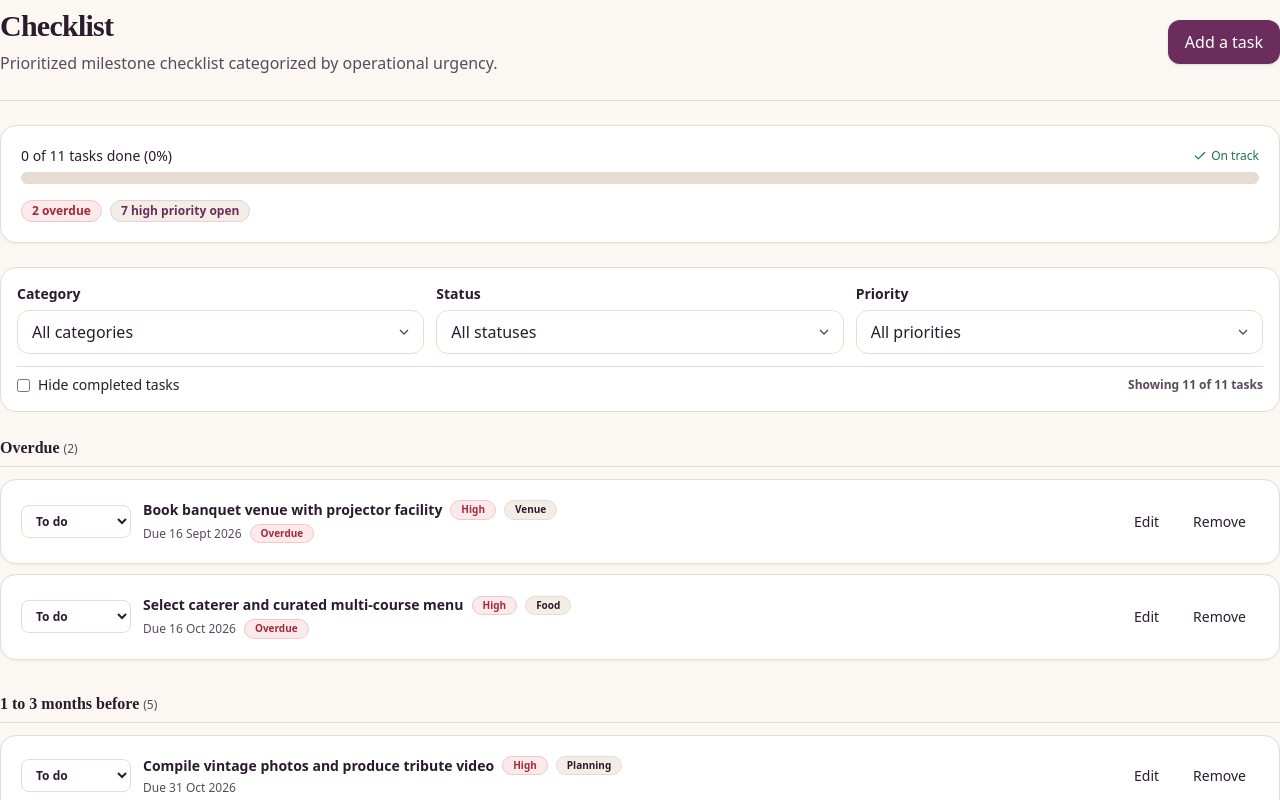
Test: UI: Checklist Page & Interactions (TASK 4) › filters tasks and clear-filters resets them
# Filter by category "venue"
Select "Venue" in the dropdown named "Filter tasks by category" at (221, 332), box [17,310,424,354]
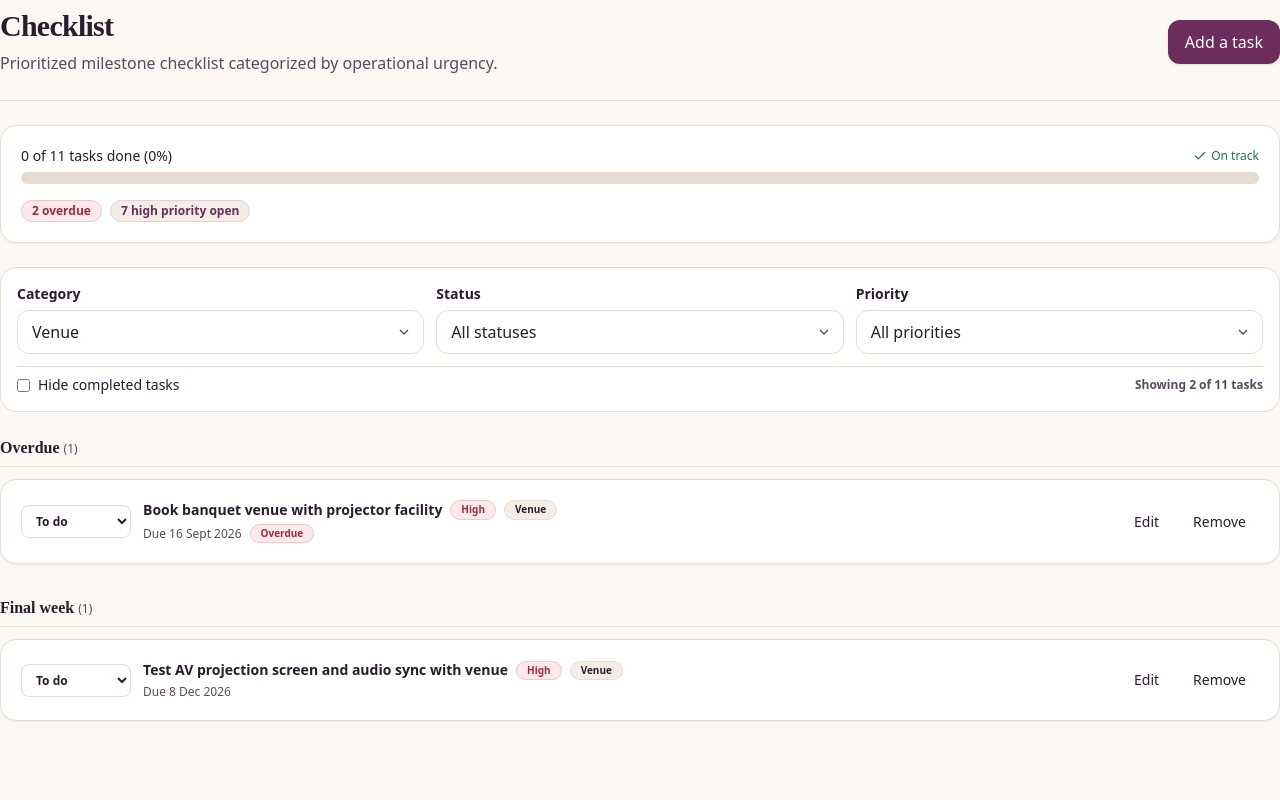
Check: the text "Showing 2 of 11 tasks" is shown, box [1135,377,1263,393]
# Filter by nonexistent condition: priority "low" when no venue low priority
Select "Low priority" in the dropdown named "Filter tasks by priority" at (1059, 332), box [856,310,1263,354]
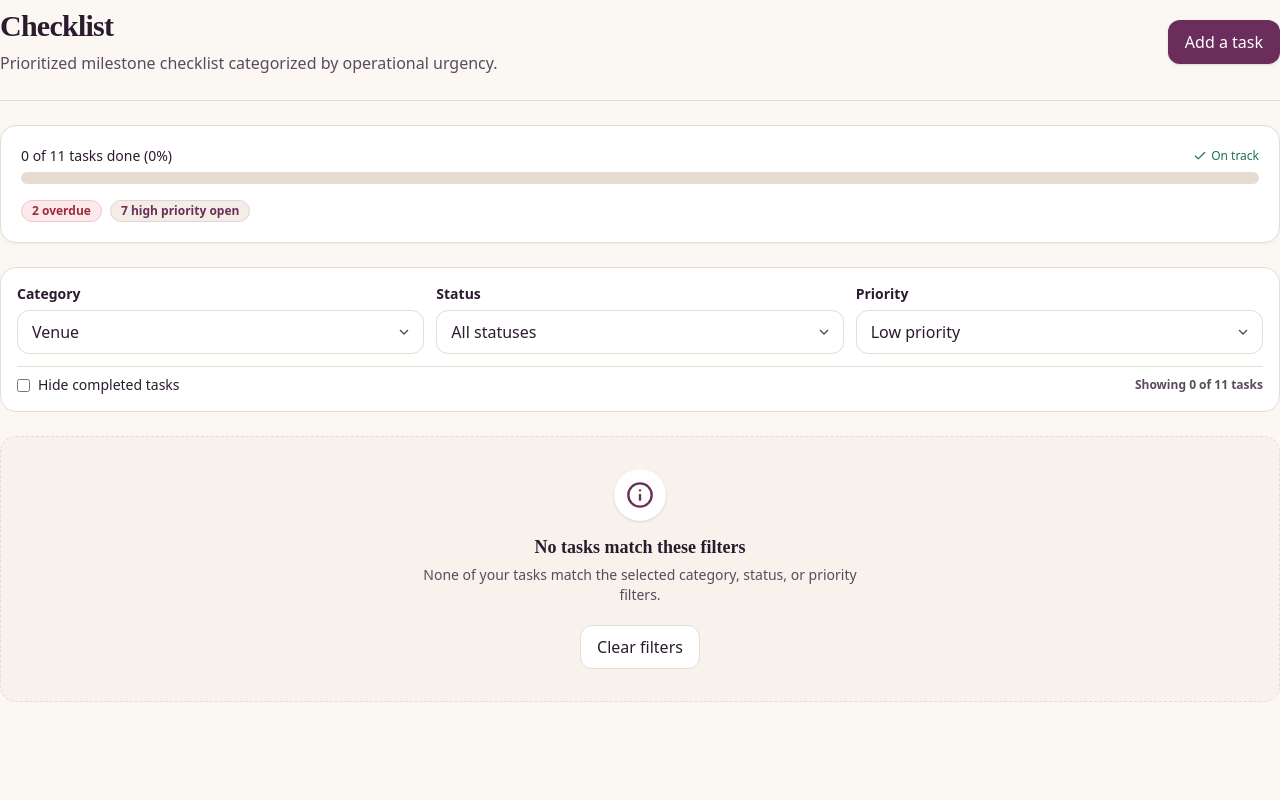
Check: the heading "No tasks match these filters" is shown, box [534,533,746,561]
# Click "Clear filters"
Click the button "Clear filters" at (640, 647), box [580,625,700,669]
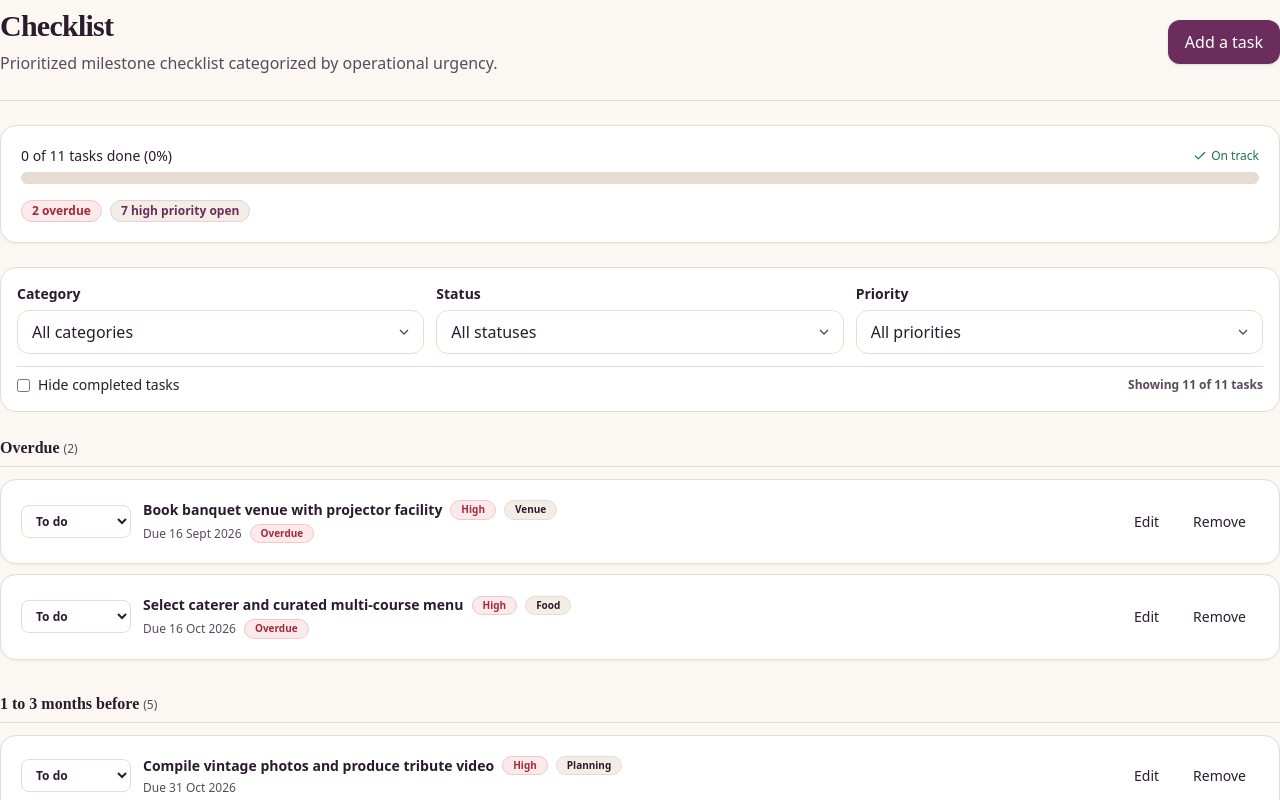
Check: the heading "No tasks match these filters" is gone
